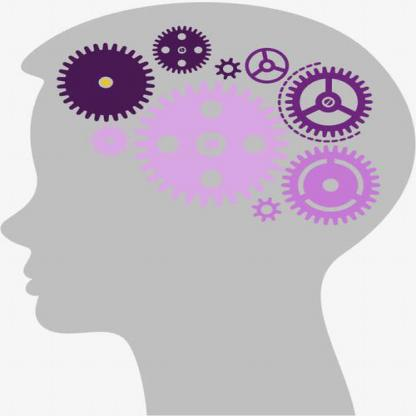FOD: (136, 83, 287, 207), (56, 41, 156, 120)
